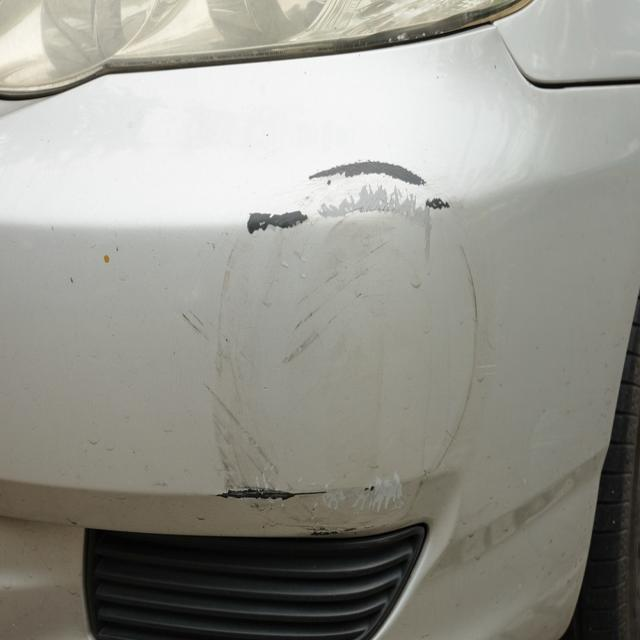Rayure: (416, 233, 502, 513), (180, 291, 283, 476), (275, 238, 400, 381), (311, 154, 427, 198), (217, 479, 316, 516), (244, 211, 312, 240)
